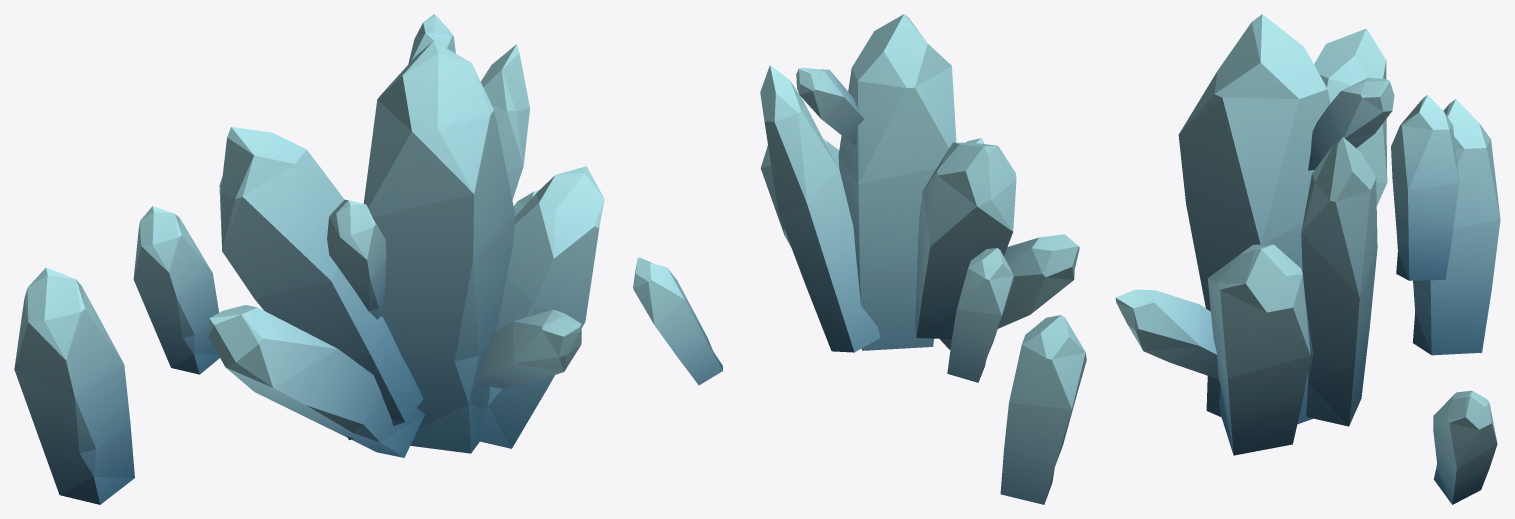
File: Boss Crystall.fbx
The picture shows the model from 3 angles, left to right: view 1: azimuth 30°, elevation 25°; view 2: azimuth 150°, elevation 25°; view 3: azimuth 270°, elevation 25°; orthographic projection. The views are drawn at different scales.
Visible parts, largest first — view 1: Cube.004; view 2: Cube.004; view 3: Cube.004.
Boxes of the visible parts, x1,y1,x2,y2 form: Cube.004: [14, 14, 604, 504]; Cube.004: [633, 14, 1086, 504]; Cube.004: [1115, 14, 1500, 504].
Size of the model in its own units: 312 by 254 by 193.
